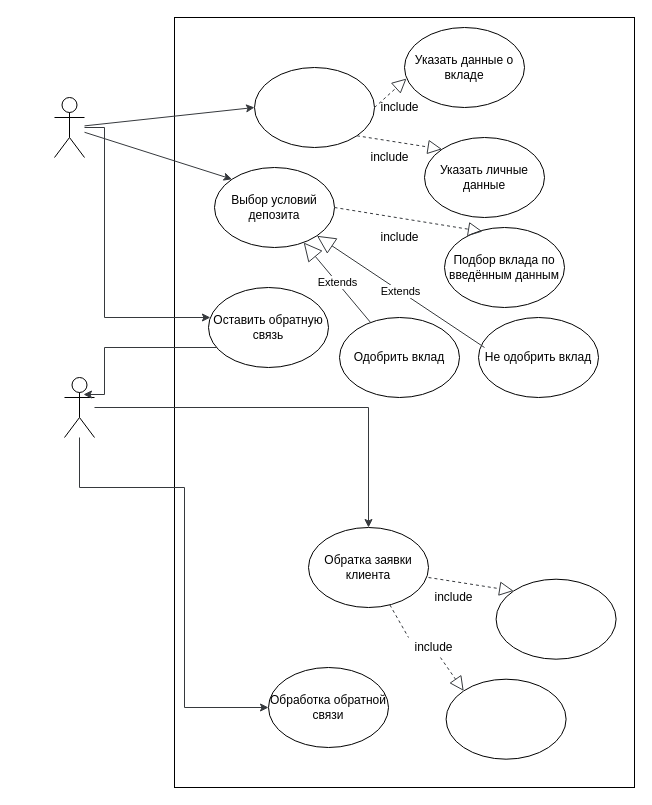
Image size: 652x805. Some labels were removed from this diagram. Each missing label, with the box of its shape:
Анализ введённой заявки: (495, 578, 616, 659)
Клиент: (54, 96, 84, 158)
Менеджер по вкладам: (64, 376, 94, 438)
Оставить заявку на вклад: (254, 66, 374, 148)
Составление договора: (445, 678, 566, 759)
